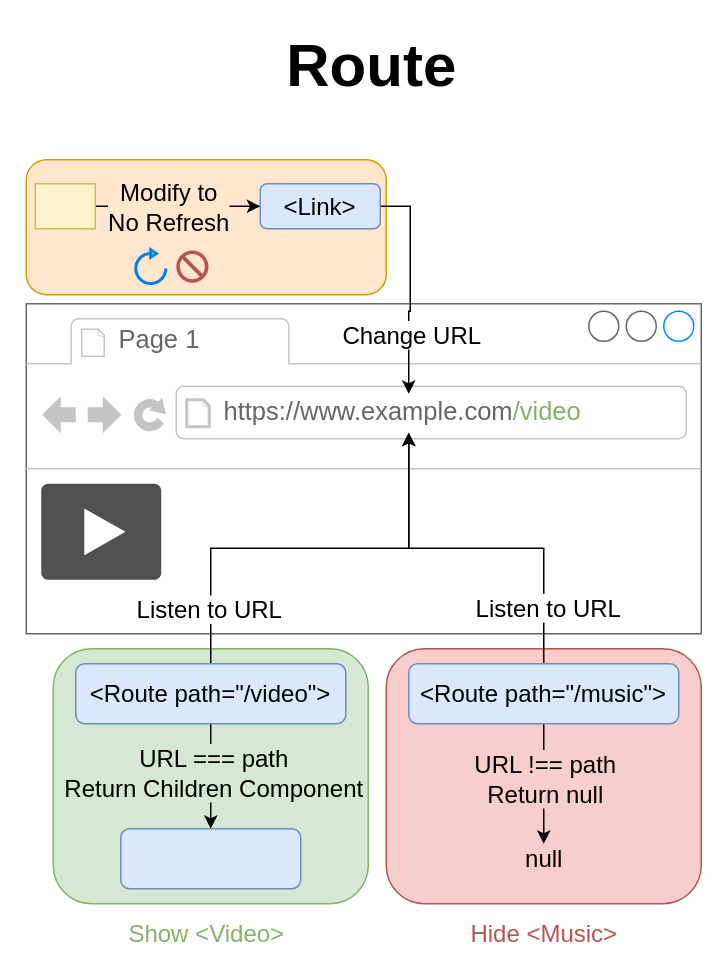
This 728x974 diagram has some shape labels left out. Here are the shapes that lost their labels. From the top down, the centre of each, then its label:
At point (64, 205): "<a>".
At point (210, 858): "<Video>".
